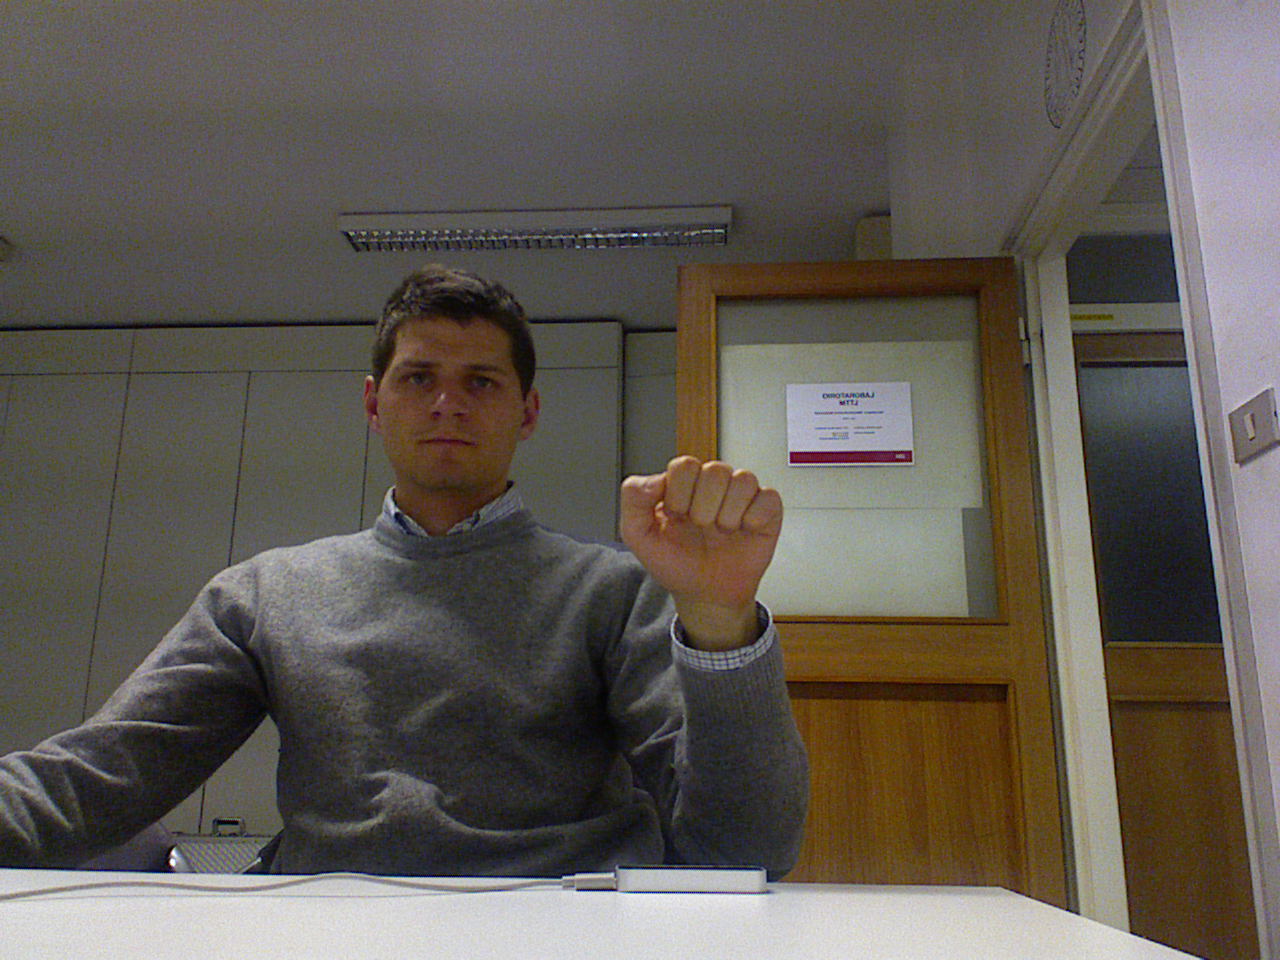hand: (617, 453, 797, 644)
